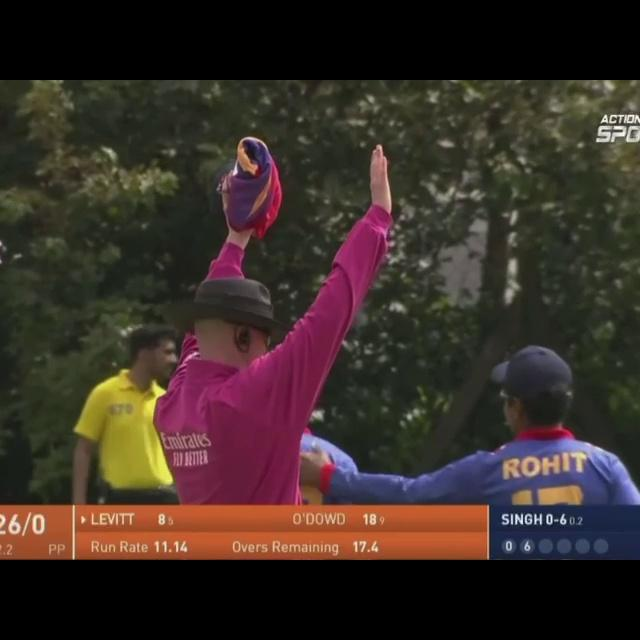umpire: (83, 99, 429, 498)
